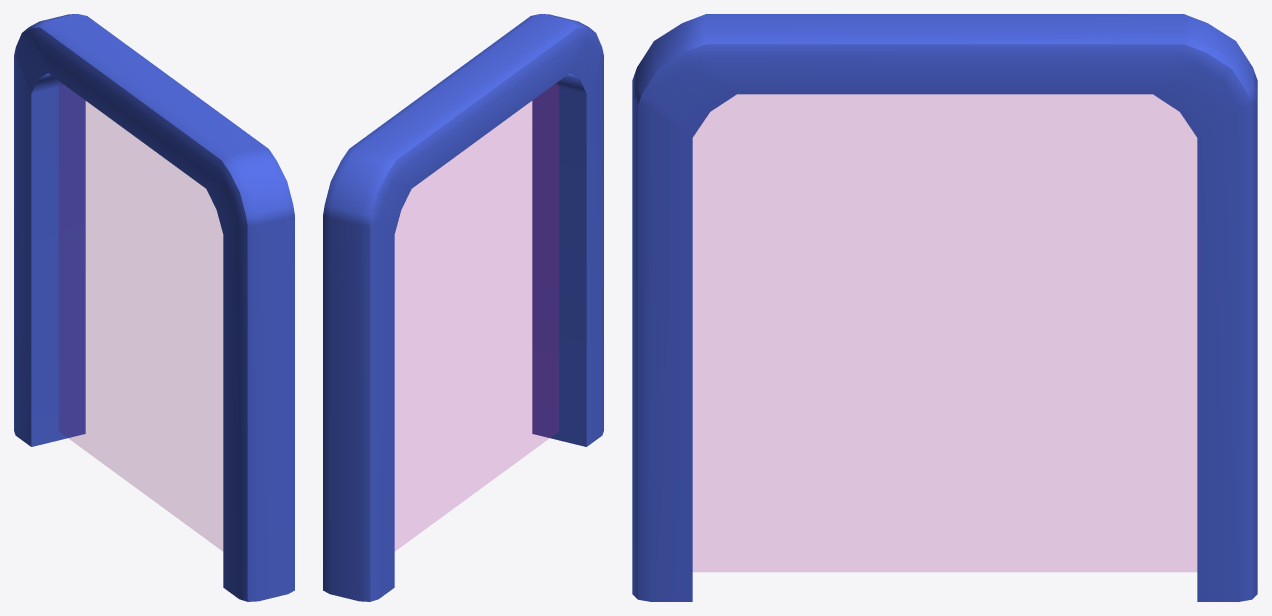
The model's file is Gate.fbx.
The picture shows the model from 3 angles, left to right: view 1: azimuth 30°, elevation 25°; view 2: azimuth 150°, elevation 25°; view 3: azimuth 270°, elevation 25°; orthographic projection. The views are drawn at different scales.
Parts seen in each view (by area): view 1: pPlane53; view 2: pPlane53; view 3: pPlane53.
Part boxes in pixels (left/top/right/bottom): pPlane53: left=14, top=14, right=294, bottom=601; pPlane53: left=323, top=14, right=603, bottom=601; pPlane53: left=632, top=14, right=1257, bottom=601.
Bounding box in the file's own units: 0.1464 × 1.1 × 1.11.
